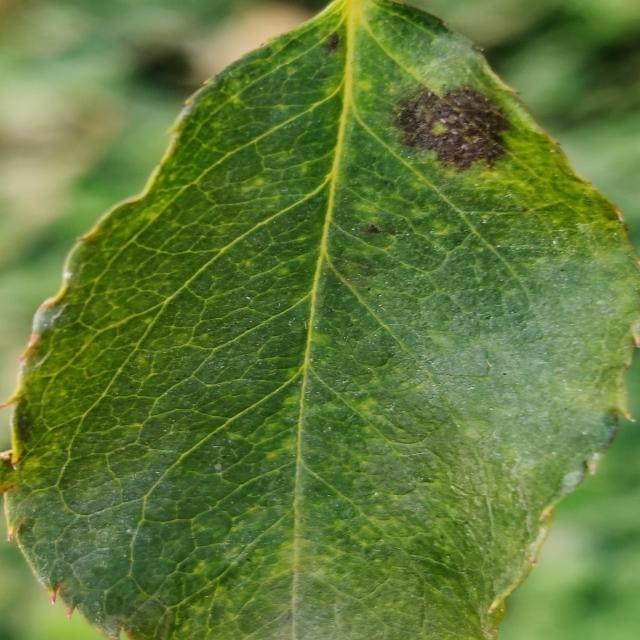Black_spot: (390, 80, 514, 174)
Rose: (1, 0, 638, 638)
